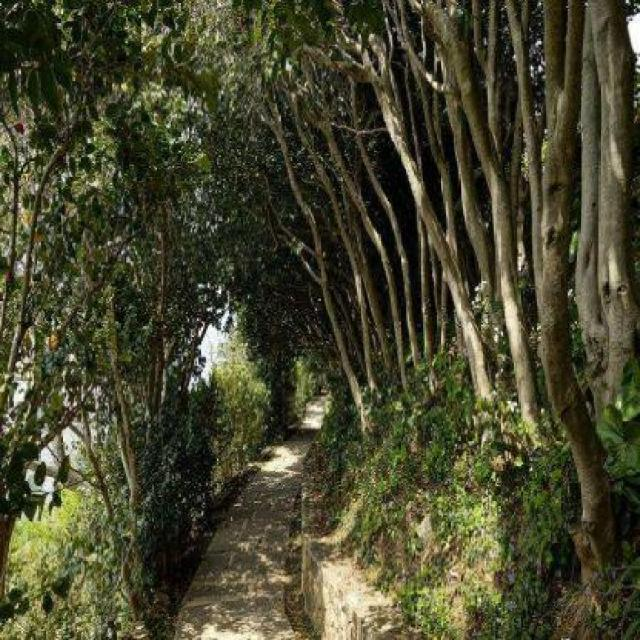fall: (5, 0, 639, 638)
